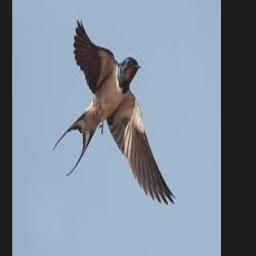Swallow: (53, 19, 177, 203)
